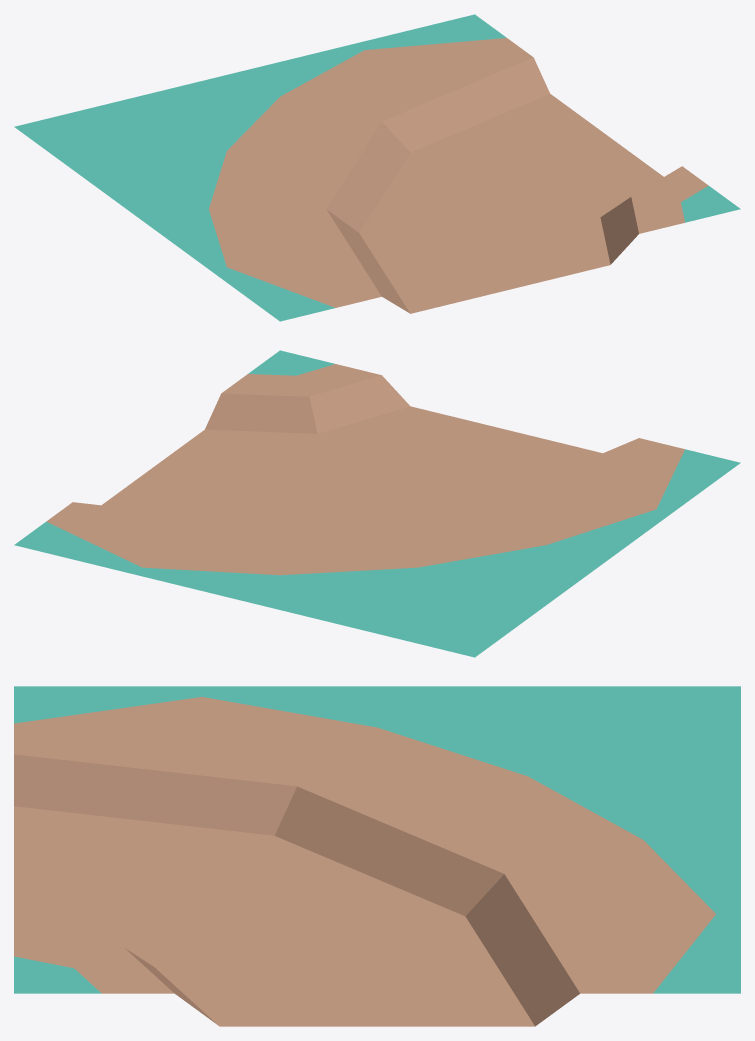
Rendered from ground_pathBendBank.glb.
3 views of the same model, one above another, from view 1: azimuth 30°, elevation 25°; view 2: azimuth 150°, elevation 25°; view 3: azimuth 270°, elevation 25° (orthographic). The views are drawn at different scales.
Visible parts, largest first — view 1: ground_pathBendBank; view 2: ground_pathBendBank; view 3: ground_pathBendBank.
Boxes of the visible parts, left/top/right/bottom form: ground_pathBendBank: left=14, top=14, right=740, bottom=321; ground_pathBendBank: left=14, top=350, right=740, bottom=657; ground_pathBendBank: left=14, top=686, right=740, bottom=1026.
Bounding box in the file's own units: 1 × 0.05 × 1.
